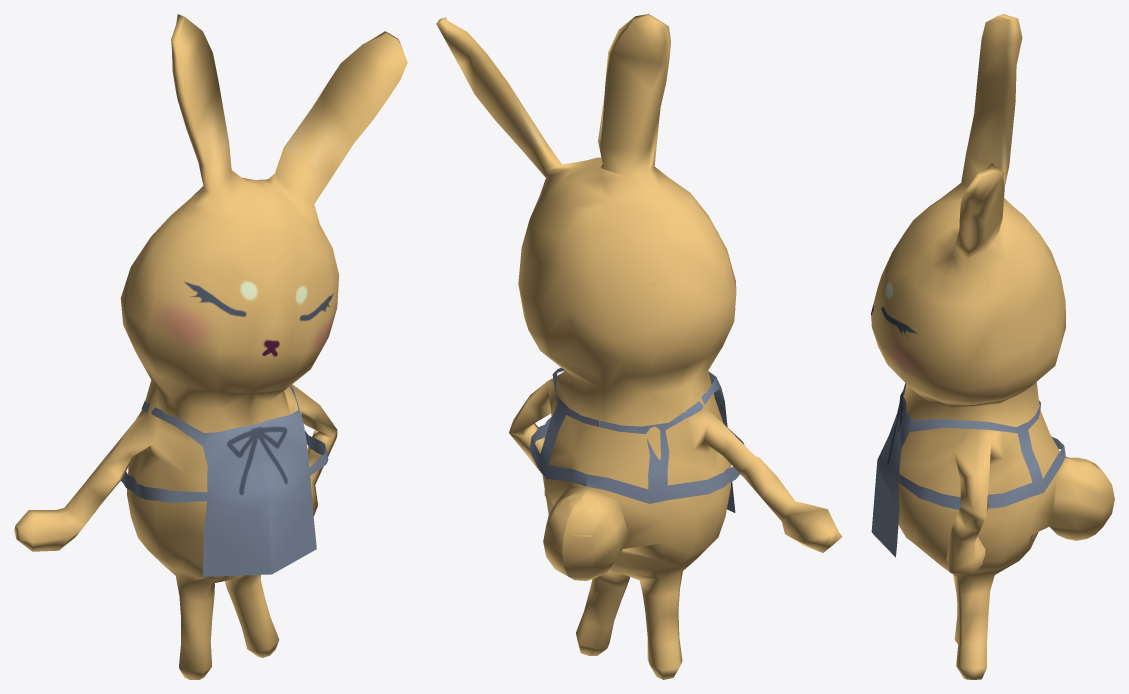
The model's file is BunnyTypology3.fbx.
The picture shows the model from 3 angles, left to right: view 1: azimuth 30°, elevation 25°; view 2: azimuth 150°, elevation 25°; view 3: azimuth 270°, elevation 25°; orthographic projection. The views are drawn at different scales.
Visible parts, largest first — view 1: Sphere.002, Plane; view 2: Sphere.002, Plane; view 3: Sphere.002, Plane.
Boxes of the visible parts, x1,y1,x2,y2 form: Sphere.002: (14, 14, 407, 679); Plane: (121, 385, 328, 576); Sphere.002: (436, 14, 842, 679); Plane: (529, 367, 744, 512); Sphere.002: (871, 14, 1114, 679); Plane: (871, 383, 1065, 557).
Size of the model in its own units: 379 by 609 by 212.
